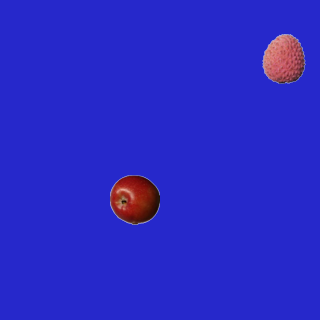Apple Braeburn: (109, 174, 159, 224)
Lychee: (258, 33, 308, 83)
